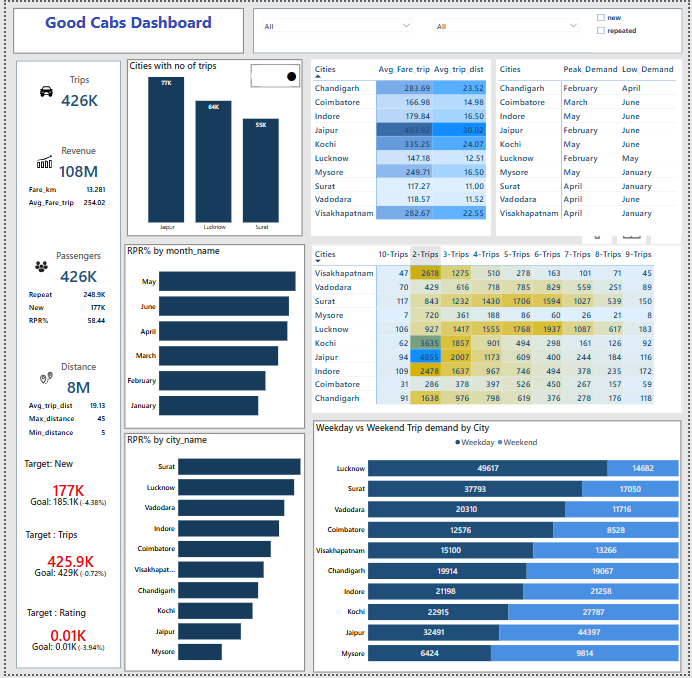

This screenshot's page, from the dashboard's own definition file:
{"tool":"powerbi","page":{"name":"Duplicate of Duplicate of Duplicate of Dashboard","canvas":[1820,1790],"ordinal":1},"visuals":[{"type":"shape","box":[660,16.7,1143.3,120],"z":0,"group":"g1"},{"type":"shape","box":[25.8,155.6,280,1620],"z":0,"group":"g2"},{"type":"clusteredColumnChart","title":"Cities with no of trips","fields":{"Category":["dim_city.city_name"],"Y":["CountNonNull(fact_trips.trip_id)"]},"box":[322,154,466,470],"z":1000},{"type":"textbox","box":[20,16.7,613.3,120],"z":3000},{"type":"slicer","fields":{"Values":["fact_trips.passenger_type"]},"box":[1562.5,19.1,234.3,114.4],"z":4000,"group":"g1"},{"type":"slicer","fields":{"Values":["dim_city.city_name"]},"box":[1135,32,405.5,94.5],"z":6000,"group":"g1"},{"type":"kpi","title":"Target: New","fields":{"Indicator":["Table.new"],"Goal":["Sum(monthly_target_new_passengers.target_new_passengers)"],"TrendLine":["fact_passenger_summary.total_passengers"]},"box":[41.7,1205.6,247.7,186.4],"z":6000,"group":"g2"},{"type":"kpi","title":"Target : Rating","fields":{"Goal":["Avg(city_rating_passenger_rating.target_avg_passenger_rating)"],"Indicator":["Table.avg_rating_passenger"],"TrendLine":["fact_passenger_summary.total_passengers"]},"box":[48.5,1601.1,234.1,168.2],"z":7000,"group":"g2"},{"type":"kpi","title":"Target : Trips","fields":{"Goal":["Sum(monthly_target_trips.total_target_trips)"],"Indicator":["Table.total_trips"],"TrendLine":["fact_passenger_summary.total_passengers"]},"box":[46.3,1396.5,252.3,181.8],"z":8000,"group":"g2"},{"type":"clusteredBarChart","title":"RPR% by city_name","fields":{"Category":["dim_city.city_name"],"Y":["Table.RPR%"]},"box":[318,1150,480,634],"z":9000},{"type":"clusteredBarChart","title":"RPR% by month_name","fields":{"Category":["dim_date.month_name"],"Y":["Table.RPR%"]},"box":[318,646,480,490],"z":10000},{"type":"pivotTable","fields":{"Values":["Table.Avg_Fare_trip","Table.avg_trip_dist"],"Rows":["dim_city.city_name"]},"box":[812,154,480,470],"z":11000},{"type":"pivotTable","fields":{"Rows":["dim_city.city_name"],"Values":["Sum(dim_repeat_trip_distribution.repeat_passenger_count)"],"Columns":["dim_repeat_trip_distribution.trip_count"]},"box":[813.3,646.7,990,450],"z":12000},{"type":"pivotTable","title":"Peak and Low  Demand Months by City","fields":{"Rows":["dim_city.city_name"],"Values":["Table.look","Table.GroupWithMinCount_1"]},"box":[1308,154,496,470],"z":13000},{"type":"hundredPercentStackedBarChart","title":"Weekday vs Weekend Trip demand by City","fields":{"Category":["dim_city.city_name"],"Y":["Table.total_trips"],"Series":["dim_date.day_type"]},"box":[820,1116.7,980,670],"z":14000},{"type":"cardVisual","fields":{"Data":["Table.fare","Table.total_passengers","Table.distance"]},"box":[40.9,312.7,244.2,897.4],"z":15000,"group":"g2"},{"type":"group","id":"g1","title":"Group 1","box":[660,16.7,1143.3,120],"z":16000},{"type":"cardVisual","fields":{"Data":["Table.total_trips"]},"box":[40.9,169.8,249.4,142.9],"z":17000,"group":"g2"},{"type":"group","id":"g2","title":"Group 2","box":[25.8,155.6,280,1620],"z":17001},{"type":"bookmarkNavigator","title":"Bookmark_city","box":[654,168,130,60],"z":17501},{"type":"slicer","fields":{"Values":["dim_date.month_name"]},"box":[673.1,32,420.5,97],"z":18000,"group":"g1"}]}

Visuals, with their boxes in screenshot pixels (x1, y1, x2, y2), scaled from the page's 1820x1790 canvas onto the 692x678 screenshot:
shape: box(251, 6, 686, 52)
shape: box(10, 59, 116, 673)
"Cities with no of trips" clusteredColumnChart: box(122, 58, 300, 236)
textbox: box(8, 6, 241, 52)
slicer - fact_trips.passenger_type: box(594, 7, 683, 51)
slicer - dim_city.city_name: box(432, 12, 586, 48)
"Target: New" kpi: box(16, 457, 110, 527)
"Target : Rating" kpi: box(18, 606, 107, 670)
"Target : Trips" kpi: box(18, 529, 114, 598)
"RPR% by city_name" clusteredBarChart: box(121, 436, 303, 676)
"RPR% by month_name" clusteredBarChart: box(121, 245, 303, 430)
pivotTable - Table.Avg_Fare_trip x Table.avg_trip_dist: box(309, 58, 491, 236)
pivotTable - dim_city.city_name x Sum(dim_repeat_trip_distribution.repeat_passenger_count): box(309, 245, 686, 415)
"Peak and Low  Demand Months by City" pivotTable: box(497, 58, 686, 236)
"Weekday vs Weekend Trip demand by City" hundredPercentStackedBarChart: box(312, 423, 684, 677)
cardVisual - Table.fare x Table.total_passengers: box(16, 118, 108, 458)
"Group 1" group: box(251, 6, 686, 52)
cardVisual - Table.total_trips: box(16, 64, 110, 118)
"Group 2" group: box(10, 59, 116, 673)
"Bookmark_city" bookmarkNavigator: box(249, 64, 298, 86)
slicer - dim_date.month_name: box(256, 12, 416, 49)
